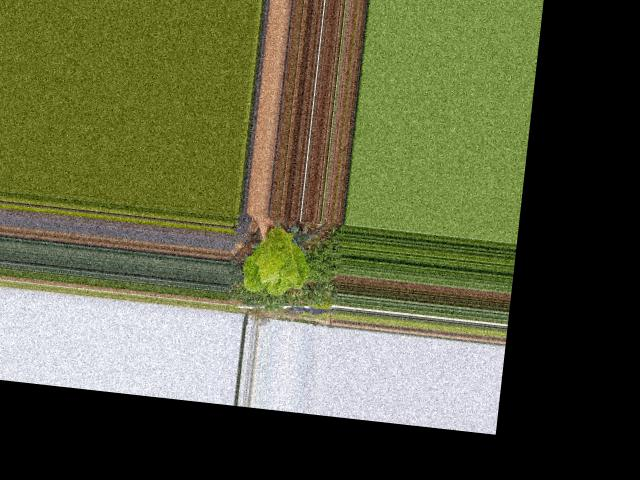lettuce: (237, 218, 316, 299)
